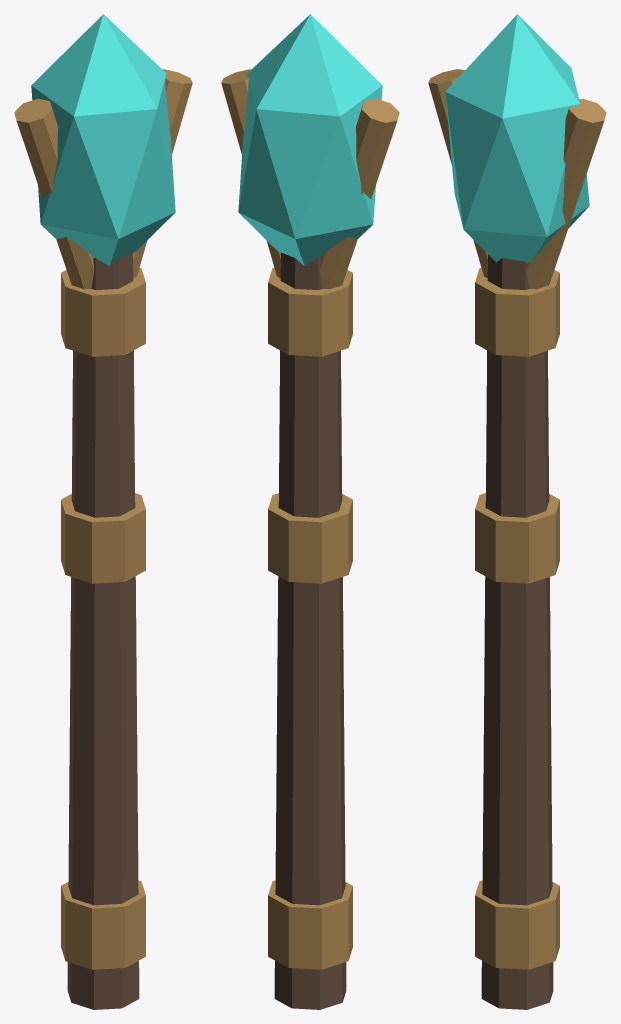
File: L01R_SoulWand.fbx
3 renders of one model, left to right at view 1: azimuth 30°, elevation 25°; view 2: azimuth 150°, elevation 25°; view 3: azimuth 330°, elevation 25°, orthographic.
Parts seen in each view (by area): view 1: L01R_SoulWand; view 2: L01R_SoulWand; view 3: L01R_SoulWand.
Boxes of the visible parts, x1,y1,x2,y2 form: L01R_SoulWand: (14,14,192,1009); L01R_SoulWand: (221,14,399,1009); L01R_SoulWand: (428,14,606,1009).
Size of the model in its own units: 29.71 by 160 by 20.42.
